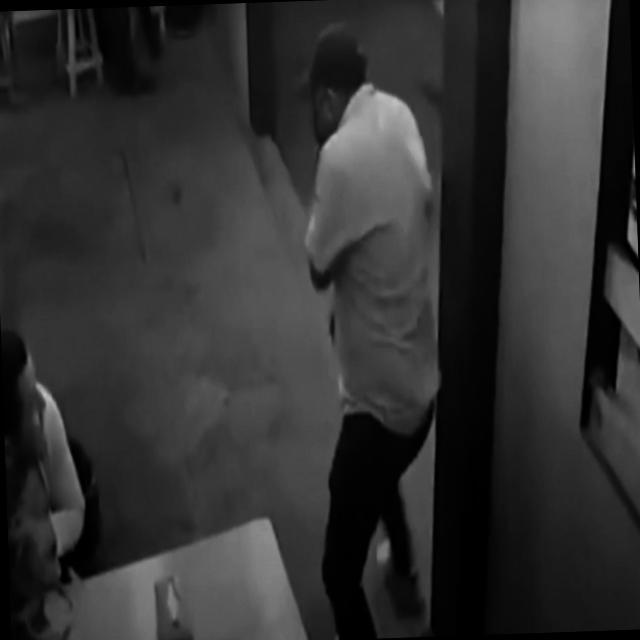gun: (327, 306, 336, 348)
person: (0, 326, 89, 594)
person with a gun: (297, 22, 448, 640)
